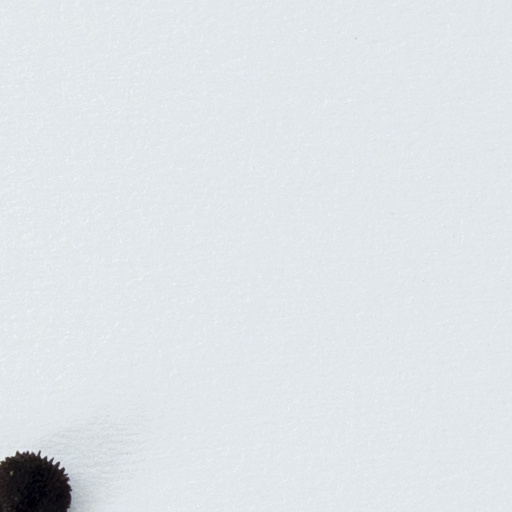Agrostemma: (0, 445, 73, 511)
